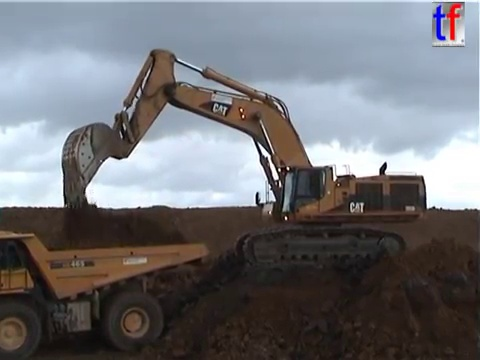excavator: (58, 46, 430, 272)
truck: (1, 226, 211, 360)
